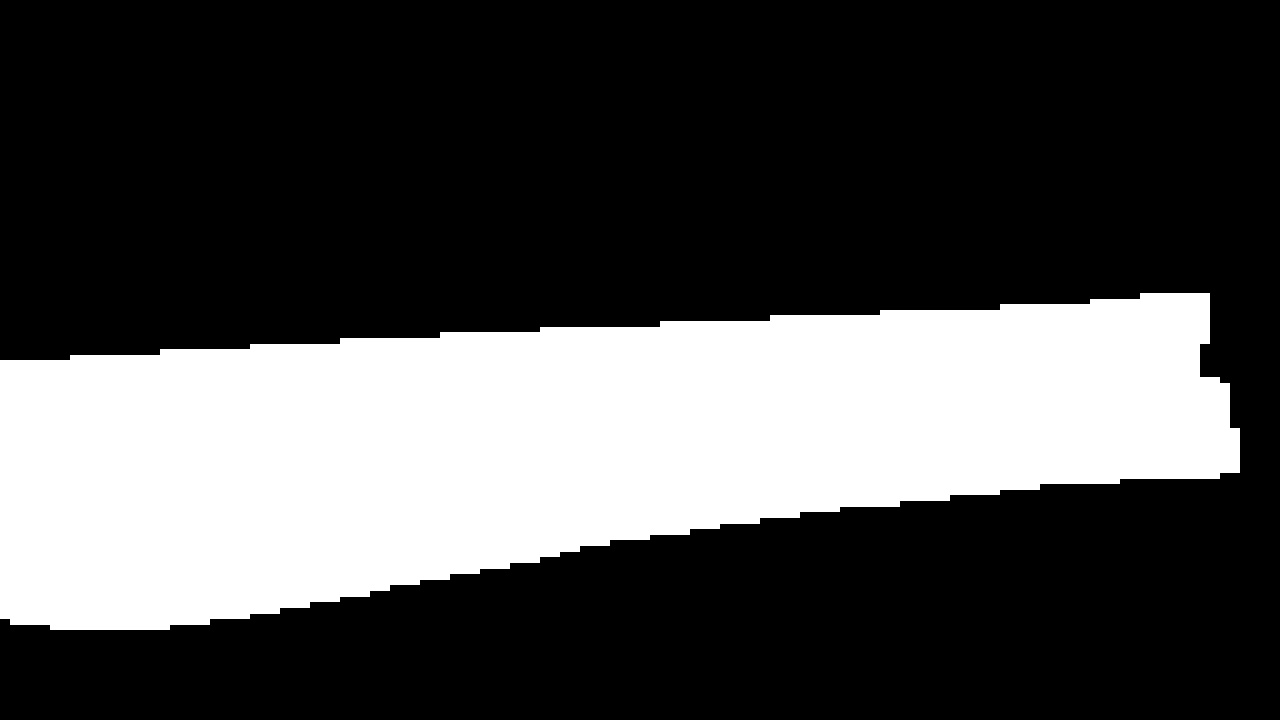Turbine: (9, 233, 1219, 668)
